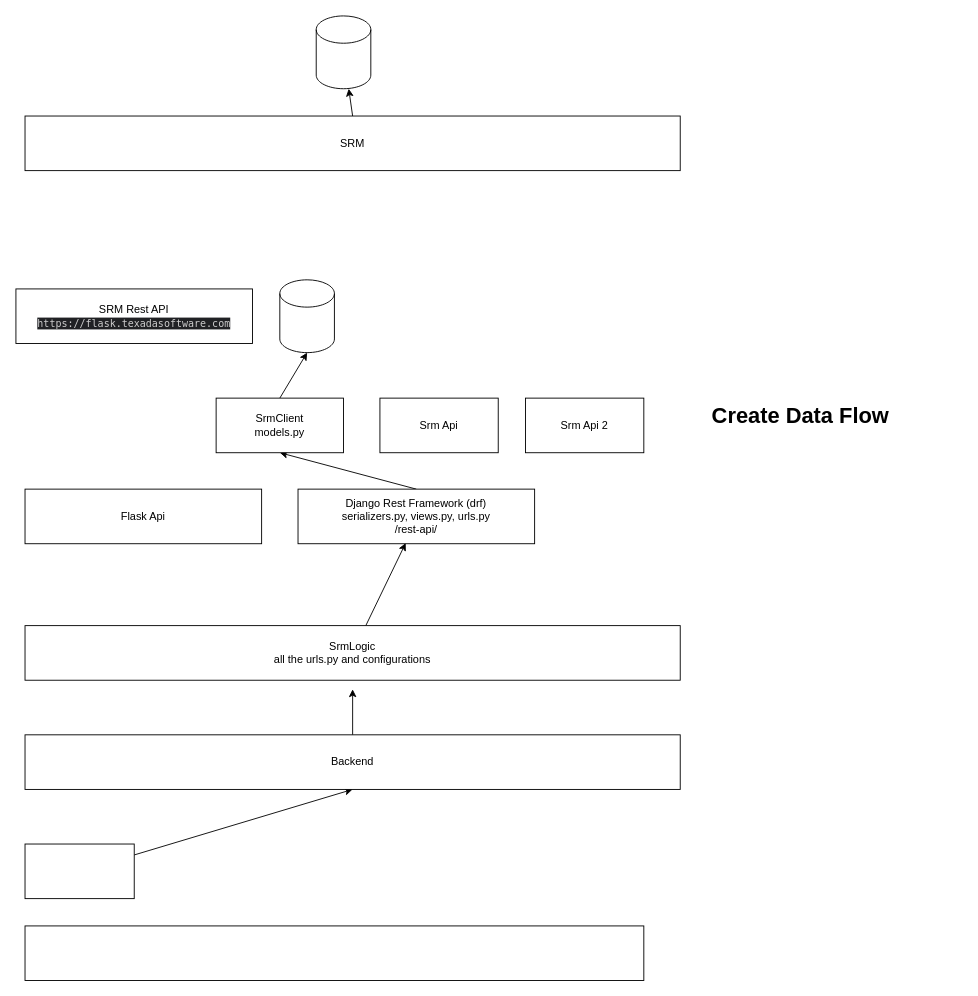
Image size: 978x996. Some labels were removed from this diagram. Each missing label, with the box of its shape:
Create: (24, 843, 134, 899)
Django DB: (279, 279, 334, 353)
Frontend: (24, 925, 644, 981)
SRM DB: (315, 15, 371, 89)
